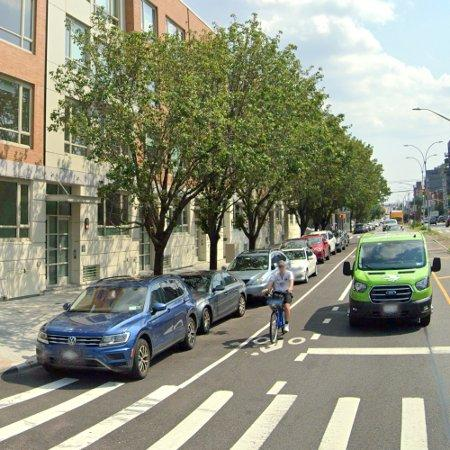crosswalks: (0, 373, 428, 448)
